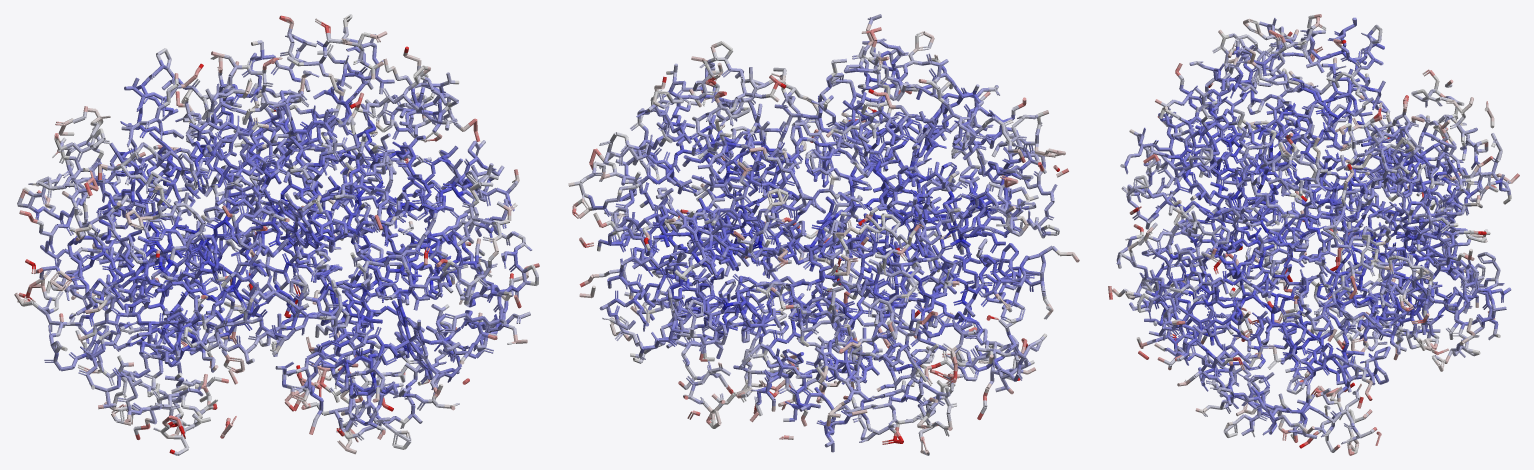
The model's file is 4hhb__sticks__b-factor.glb.
The picture shows the model from 3 angles, left to right: view 1: azimuth 30°, elevation 25°; view 2: azimuth 150°, elevation 25°; view 3: azimuth 270°, elevation 25°; orthographic projection. The views are drawn at different scales.
Parts seen in each view (by area): view 1: Renderer Node; view 2: Renderer Node; view 3: Renderer Node.
Boxes of the visible parts, x1,y1,x2,y2 form: Renderer Node: (14, 14, 539, 455); Renderer Node: (568, 14, 1079, 455); Renderer Node: (1108, 14, 1519, 455).
Size of the model in its own units: 65.72 by 57.28 by 57.7.
